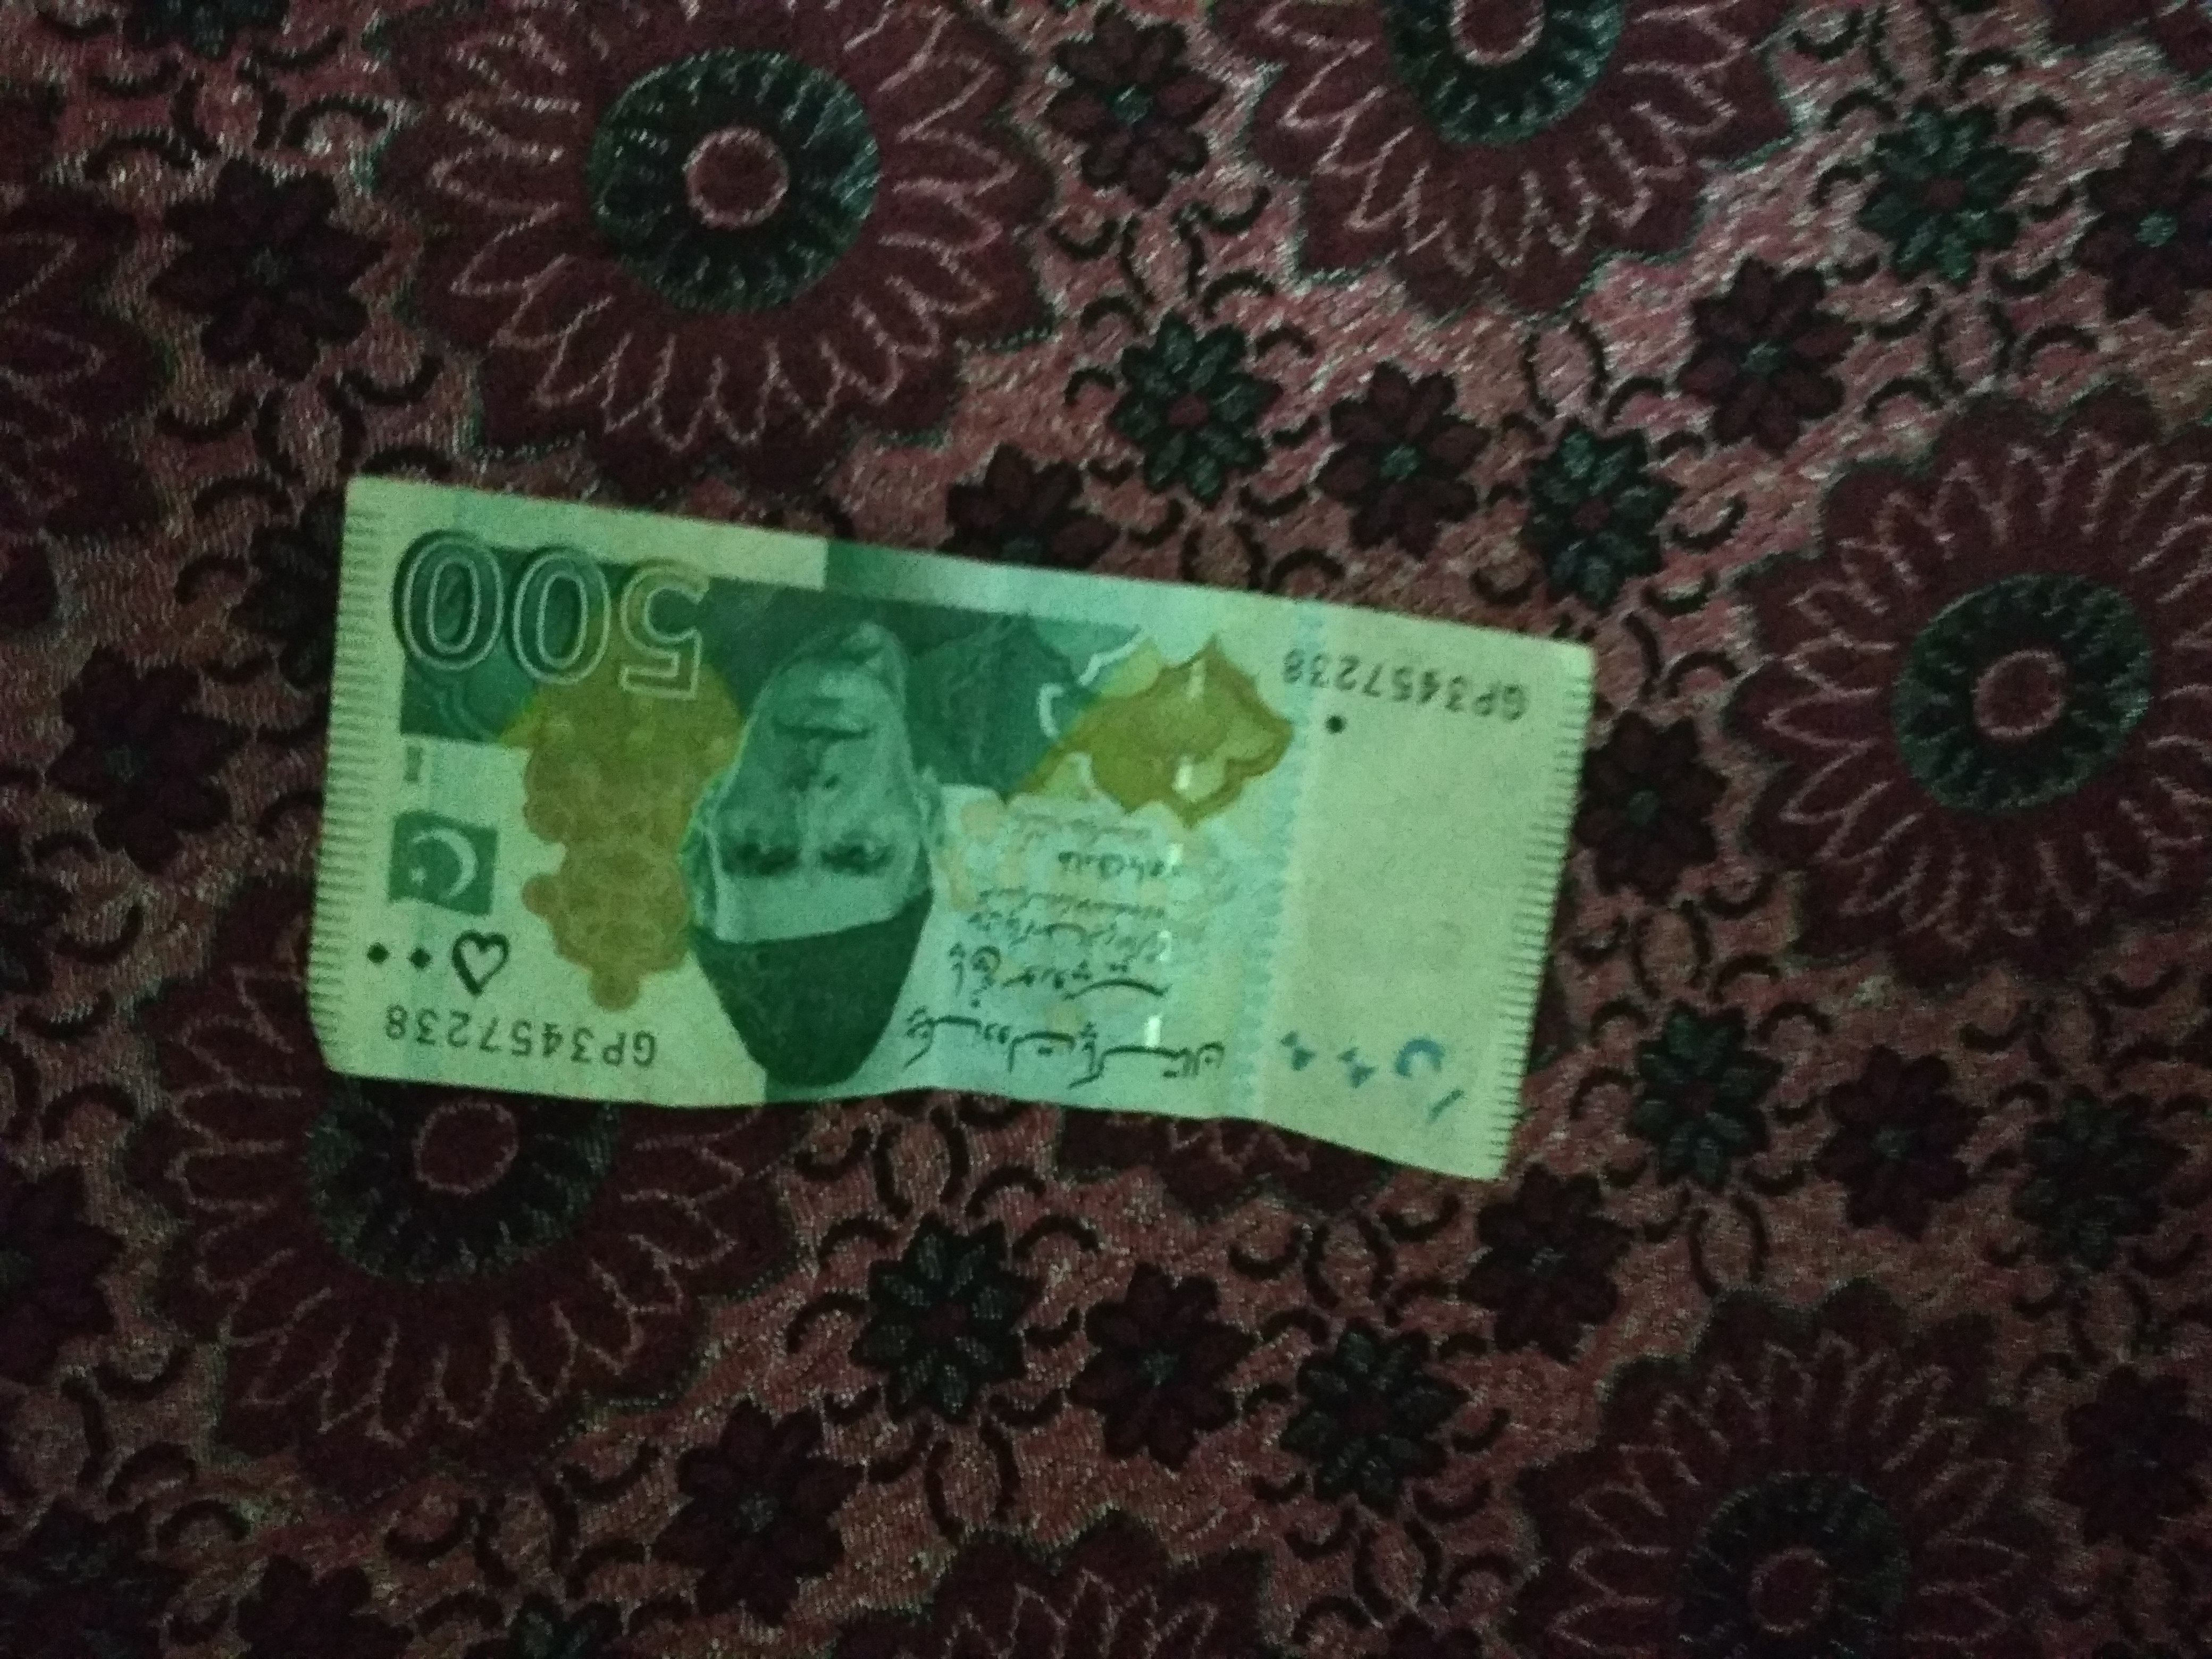500 rupee: (230, 491, 1688, 1243)
